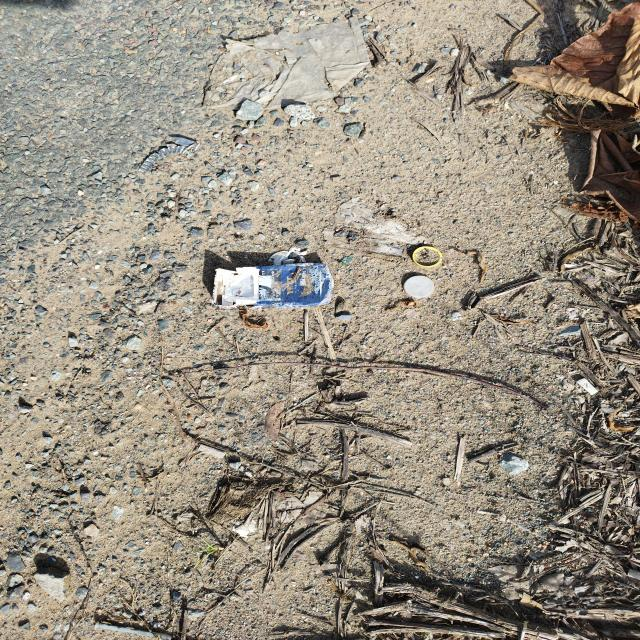cardboard box: (213, 263, 333, 307)
